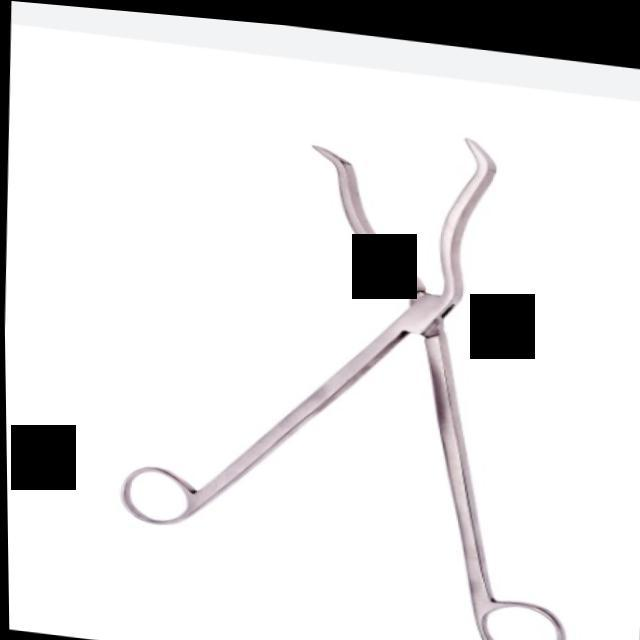Cheatle Forceps: (104, 85, 582, 640)
